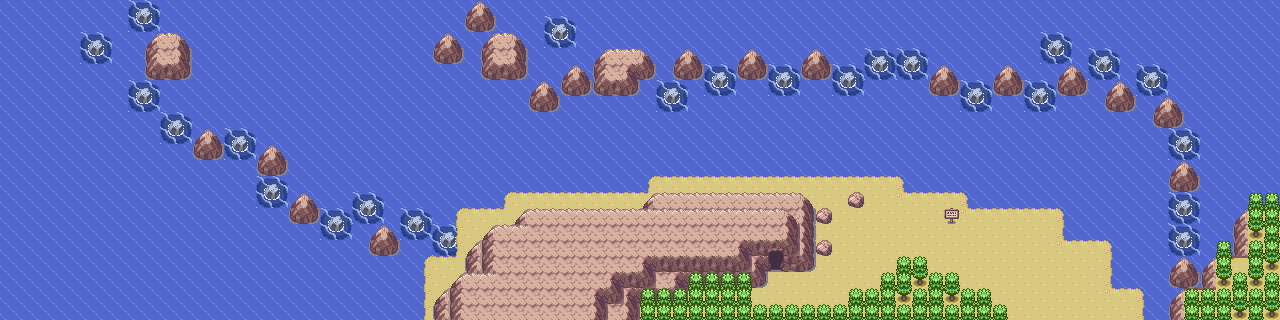cave: (749, 232, 808, 278)
